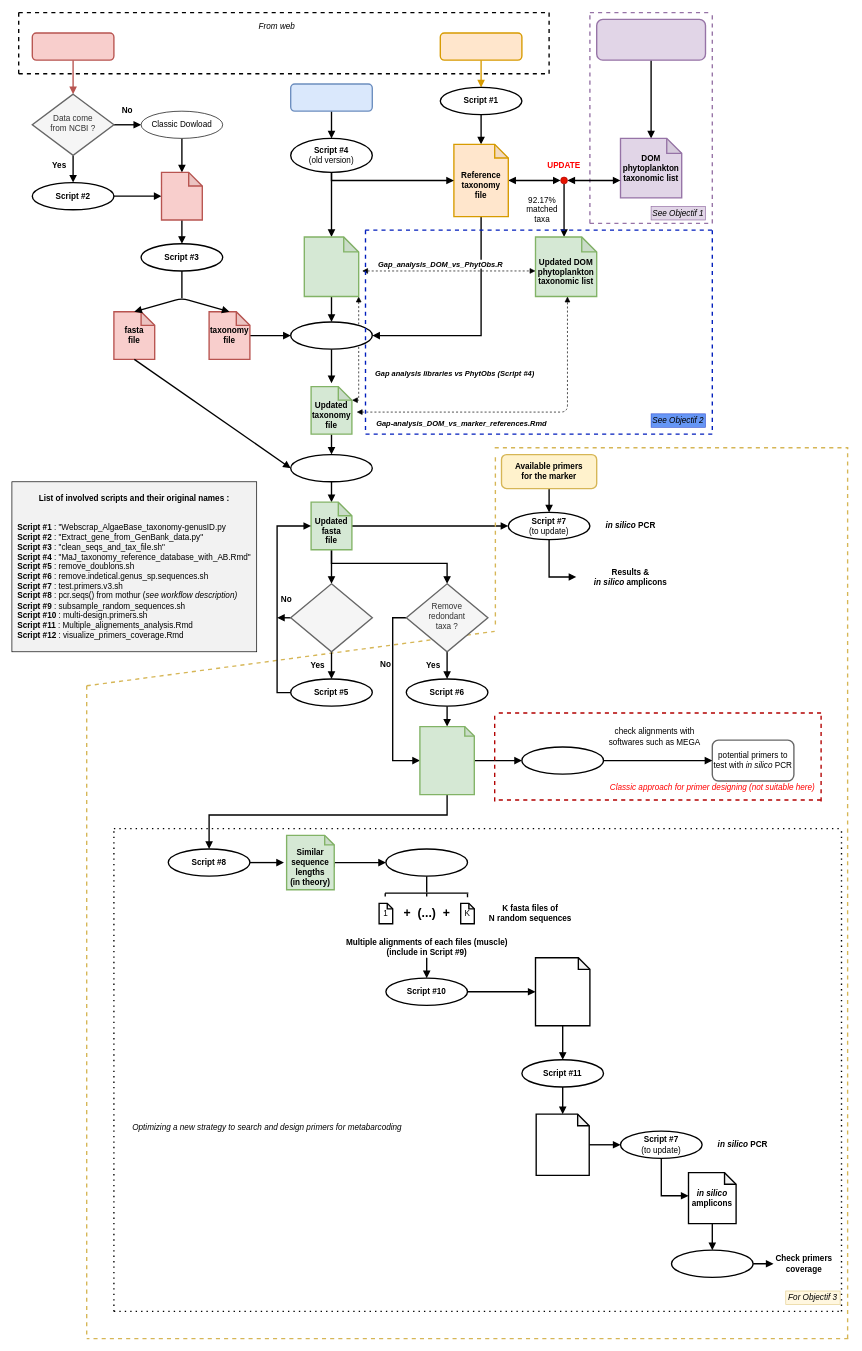
Some shapes in this 862 by 1351 pixel diagram are drawn without their labels. Here are the shapes that lost their labels. From the top down, the centre of each, then its label:
(x=72, y=46): Reference libraries
(x=480, y=46): AlgaeBase
(x=651, y=39): Microscopic observations from DOM lakes A. Bonnet
(x=331, y=97): PhytObs list C. Laplace-Treyture
(x=181, y=195): Marker dataset
(x=331, y=266): Updated PhytObs list
(x=331, y=335): Script #4
(x=331, y=468): Script #4 (following)
(x=331, y=617): Remove doublons?
(x=447, y=760): Updated fasta file without redondant taxa
(x=562, y=760): Multiple Alignment
(x=426, y=862): Script #9
(x=562, y=991): Common output to all files : list of candidate primers
(x=562, y=1144): List of potential good primers to test
(x=711, y=1263): Script #12
